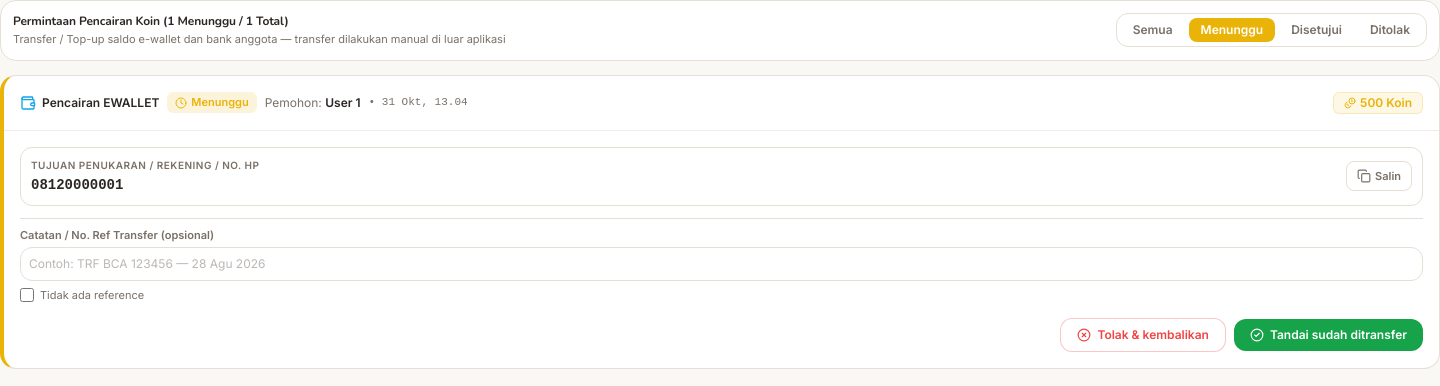
Test case: Gate 2-C — explicit no-reference toggle (presentation only) › clears and disables the note input when checked, re-enables when unchecked
Expected: the text "User 1" is shown, [325,94,361,110]
Type "TRF-123" into the field with placeholder "Contoh: TRF BCA 123456 — 28 Agu 2026" at (722, 264), box [20,247,1423,281]
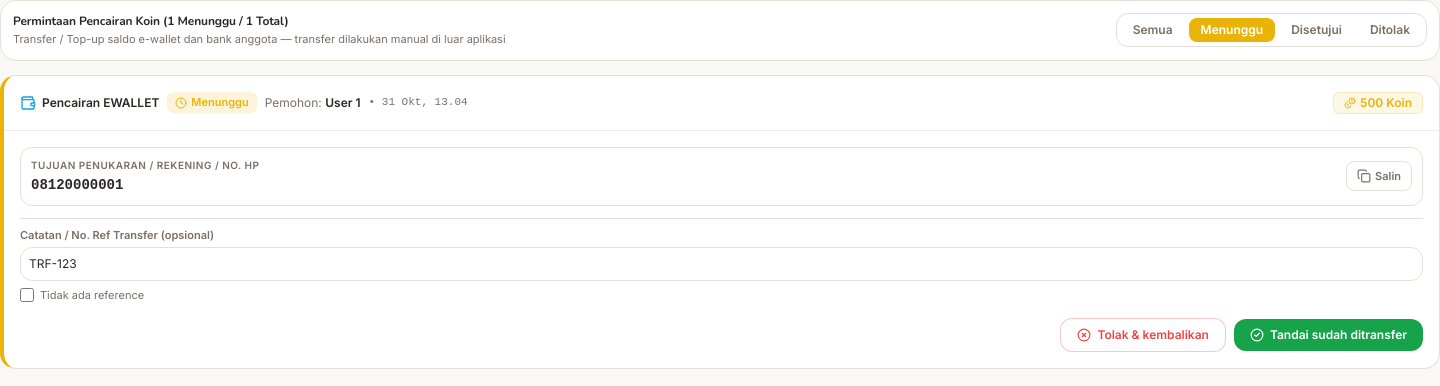
Click the checkbox labelled "Tidak ada reference" at (27, 295), box [20,288,34,302]
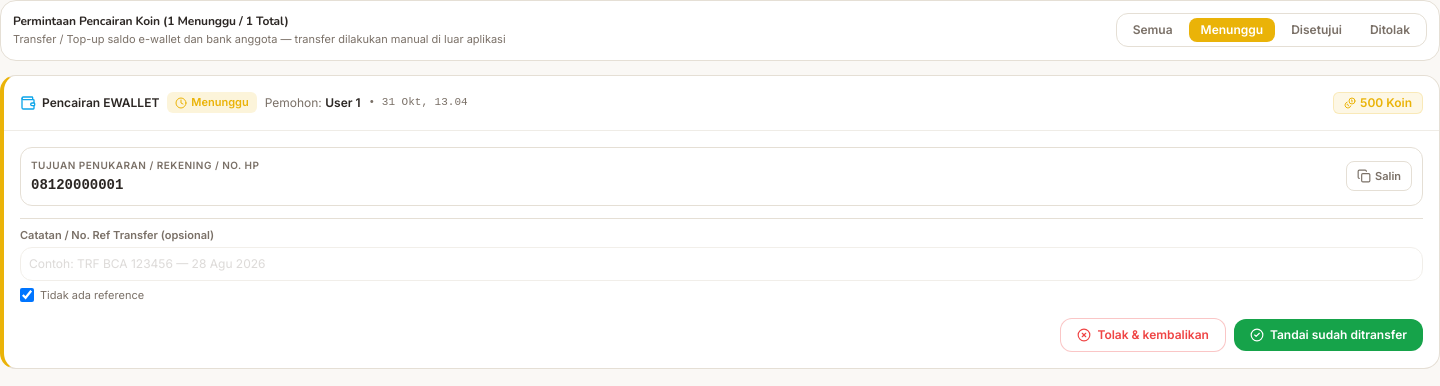
Expected: the checkbox labelled "Tidak ada reference" is checked
Expected: the field with placeholder "Contoh: TRF BCA 123456 — 28 Agu 2026" is empty, [20,247,1423,281]
Expected: the field with placeholder "Contoh: TRF BCA 123456 — 28 Agu 2026" is disabled, [20,247,1423,281]
Click the checkbox labelled "Tidak ada reference" at (27, 295), box [20,288,34,302]
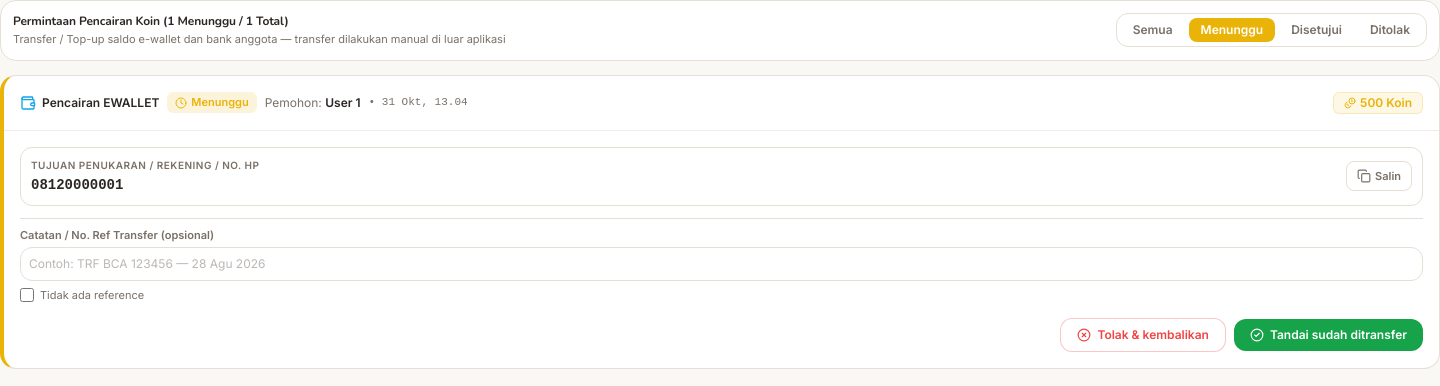
Expected: the checkbox labelled "Tidak ada reference" is not checked, [20,288,34,302]
Expected: the field with placeholder "Contoh: TRF BCA 123456 — 28 Agu 2026" is enabled, [20,247,1423,281]
